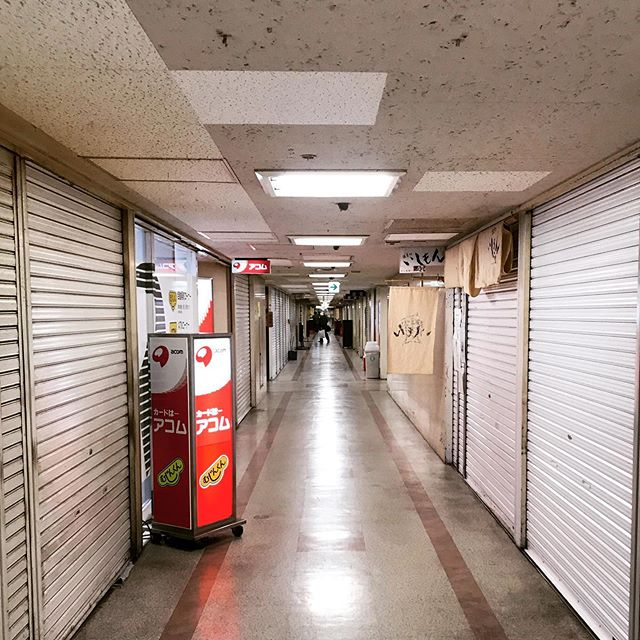sign: (136, 327, 244, 537), (391, 239, 447, 377)
